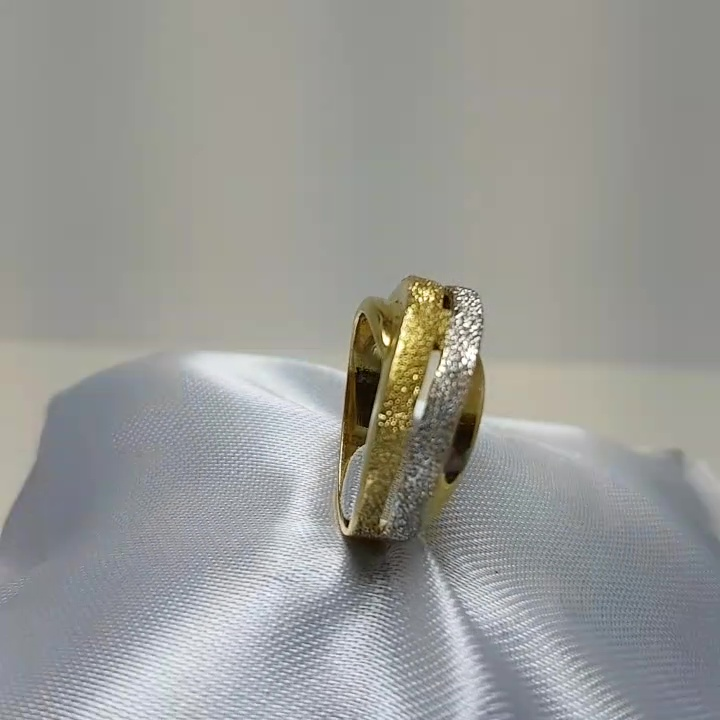Ring 5: (309, 247, 511, 603)
